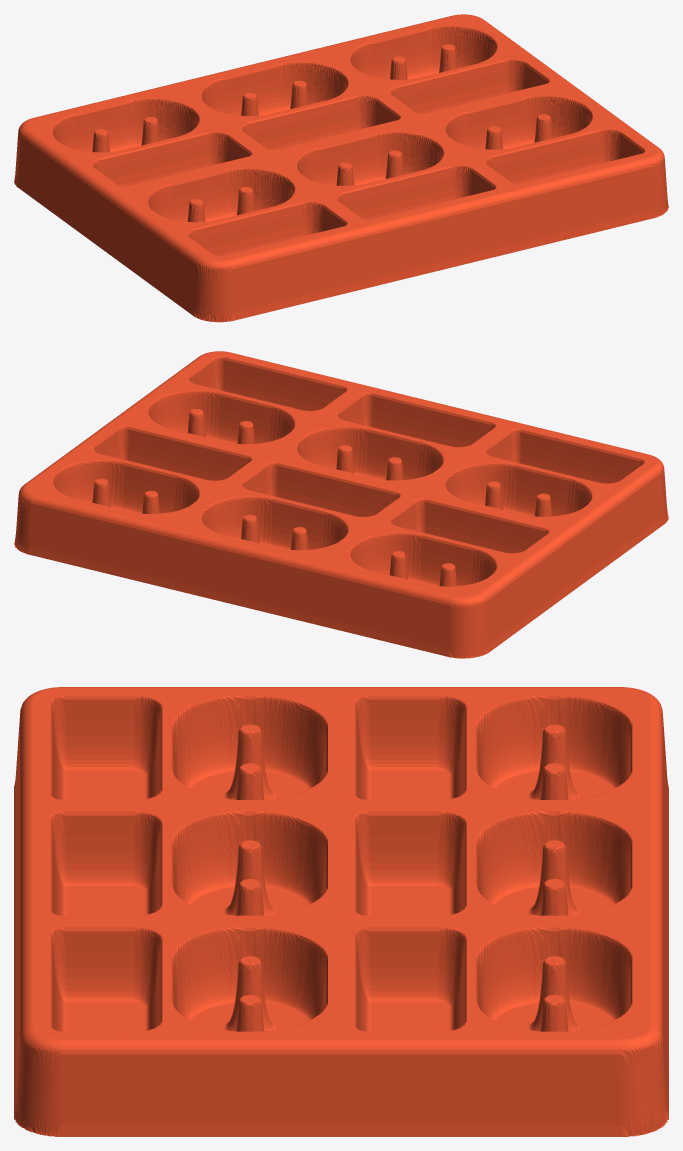
The model's file is mold.glb.
3 renders of one model, top to bottom at view 1: azimuth 30°, elevation 25°; view 2: azimuth 150°, elevation 25°; view 3: azimuth 270°, elevation 25°, orthographic. The views are drawn at different scales.
Visible parts, largest first — view 1: geometry_0; view 2: geometry_0; view 3: geometry_0.
Boxes of the visible parts, x1,y1,x2,y2 form: geometry_0: [14, 14, 668, 322]; geometry_0: [14, 351, 668, 658]; geometry_0: [14, 687, 668, 1136].
Size of the model in its own units: 0.1621 by 0.0185 by 0.1222.
